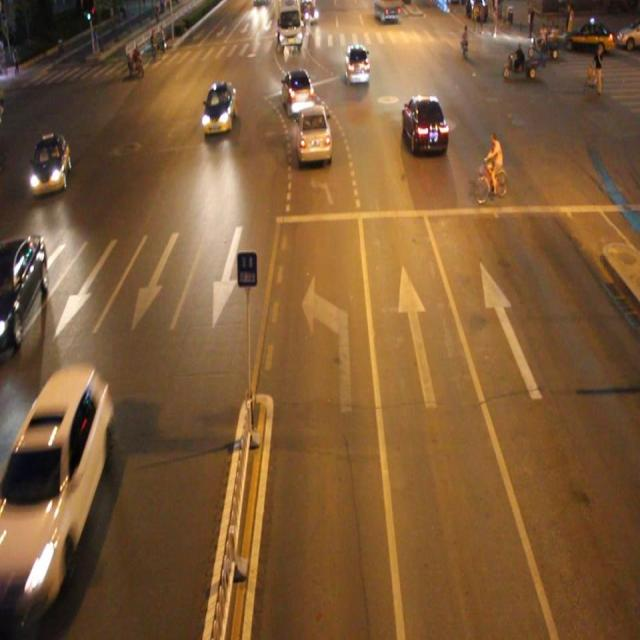car: (0, 367, 110, 616), (1, 233, 50, 350), (401, 94, 447, 153), (29, 134, 70, 193), (295, 104, 334, 164), (200, 79, 237, 134), (280, 67, 316, 119), (343, 44, 370, 84)
